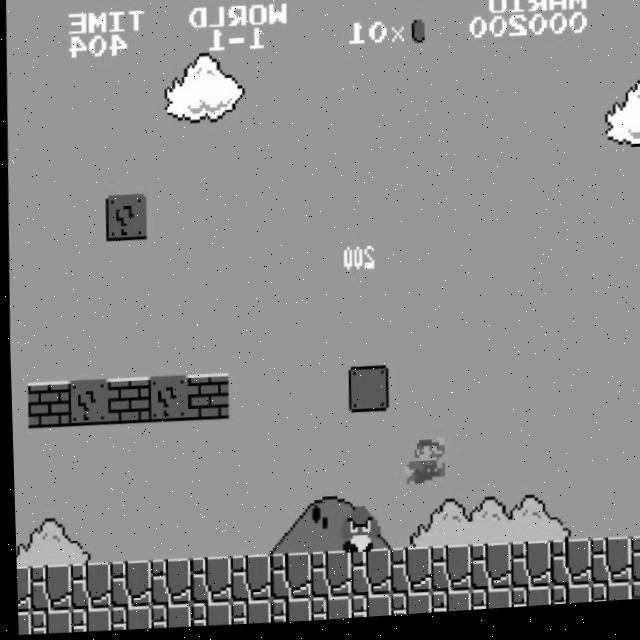1- brick_block: (104, 377, 147, 427), (184, 375, 227, 424), (24, 380, 67, 429)
11- little_mario: (399, 439, 444, 490)
13- mystery_block: (144, 376, 187, 425), (64, 379, 107, 428), (103, 195, 146, 243)
17- undestructible_block: (585, 544, 628, 593), (545, 545, 588, 594), (505, 547, 548, 596), (465, 548, 508, 597), (425, 549, 468, 598), (385, 551, 428, 600), (345, 552, 388, 601), (305, 554, 348, 603), (265, 555, 308, 604), (225, 556, 268, 605), (185, 558, 228, 607), (145, 559, 188, 608), (105, 561, 148, 610), (65, 562, 108, 611), (25, 563, 68, 612), (186, 603, 227, 630), (146, 604, 187, 631), (305, 599, 347, 625), (266, 600, 307, 626), (226, 602, 267, 628), (106, 606, 147, 632), (66, 607, 107, 633), (26, 609, 67, 635), (385, 596, 427, 621), (345, 598, 387, 623), (425, 594, 467, 618), (465, 593, 507, 616), (545, 590, 587, 612), (505, 592, 547, 614), (585, 589, 627, 610), (13, 564, 28, 611), (626, 544, 640, 591), (14, 610, 27, 633), (626, 589, 640, 608)
3- empty_block: (344, 369, 387, 418)
8- goomba: (335, 506, 380, 559)
